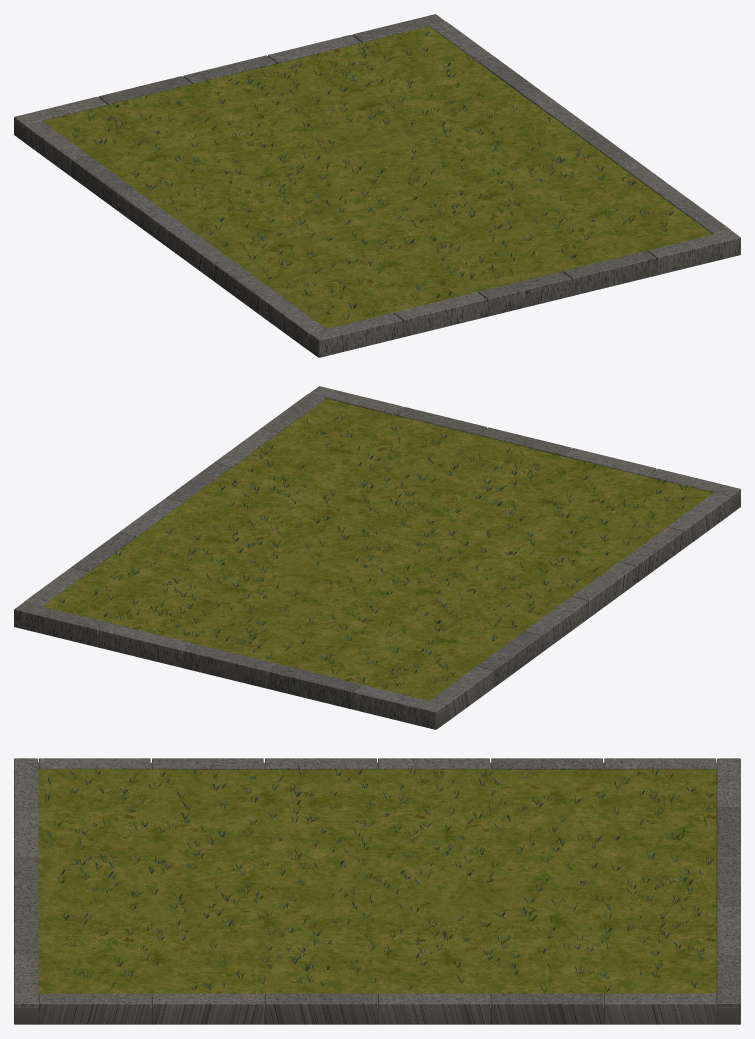
File: floor-grass-standard.glb
3 renders of one model, top to bottom at view 1: azimuth 30°, elevation 25°; view 2: azimuth 150°, elevation 25°; view 3: azimuth 270°, elevation 25°, orthographic. The views are drawn at different scales.
Visible parts, largest first — view 1: Turf_surface, Perimeter_granite, Trimmed_blades; view 2: Turf_surface, Perimeter_granite, Trimmed_blades; view 3: Turf_surface, Perimeter_granite, Trimmed_blades, Compacted_base_and_visible_joints.
Part boxes in pixels (x1,y1,x2,y2): Turf_surface: (42,26,712,328); Perimeter_granite: (14,14,740,357); Trimmed_blades: (72,31,674,319); Turf_surface: (42,398,712,700); Perimeter_granite: (14,386,740,729); Trimmed_blades: (59,414,687,688); Turf_surface: (38,769,716,995); Perimeter_granite: (14,758,740,1024); Trimmed_blades: (42,766,714,992); Compacted_base_and_visible_joints: (15,762,739,1024).
Bounding box in the file's own units: 2.4 × 0.1249 × 3.
Materials: 4 (2 with a texture image).
